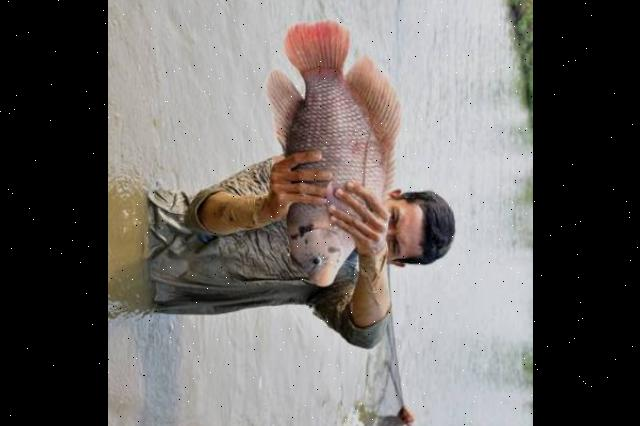Mulut: (292, 264, 348, 303)
Sirip Anal: (345, 47, 411, 213)
Sirip Dada: (306, 178, 349, 228)
Sirip Ekor: (270, 11, 364, 82)
Sirip Punggung: (245, 59, 318, 179)
